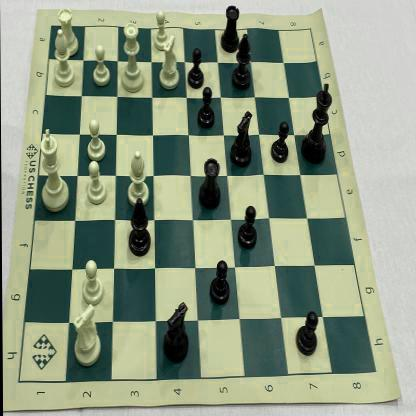black-bishop: (126, 197, 153, 262), (231, 30, 252, 95)
black-king: (298, 78, 334, 168)
black-knight: (160, 299, 191, 366), (230, 106, 256, 172)
black-pawn: (294, 308, 320, 361), (207, 255, 232, 308), (236, 200, 258, 255), (270, 120, 292, 168), (184, 45, 206, 90), (196, 85, 216, 132)
black-rook: (196, 152, 223, 213), (217, 0, 241, 55)
white-bishop: (50, 27, 78, 91), (124, 146, 152, 210)
white-king: (36, 124, 74, 217)
white-knight: (68, 302, 104, 371), (156, 31, 182, 92)
white-pawn: (84, 156, 108, 209), (83, 114, 108, 164), (79, 256, 104, 306), (148, 6, 174, 52), (90, 42, 112, 87)
white-queen: (118, 21, 146, 97)
white-rook: (52, 3, 84, 60)
